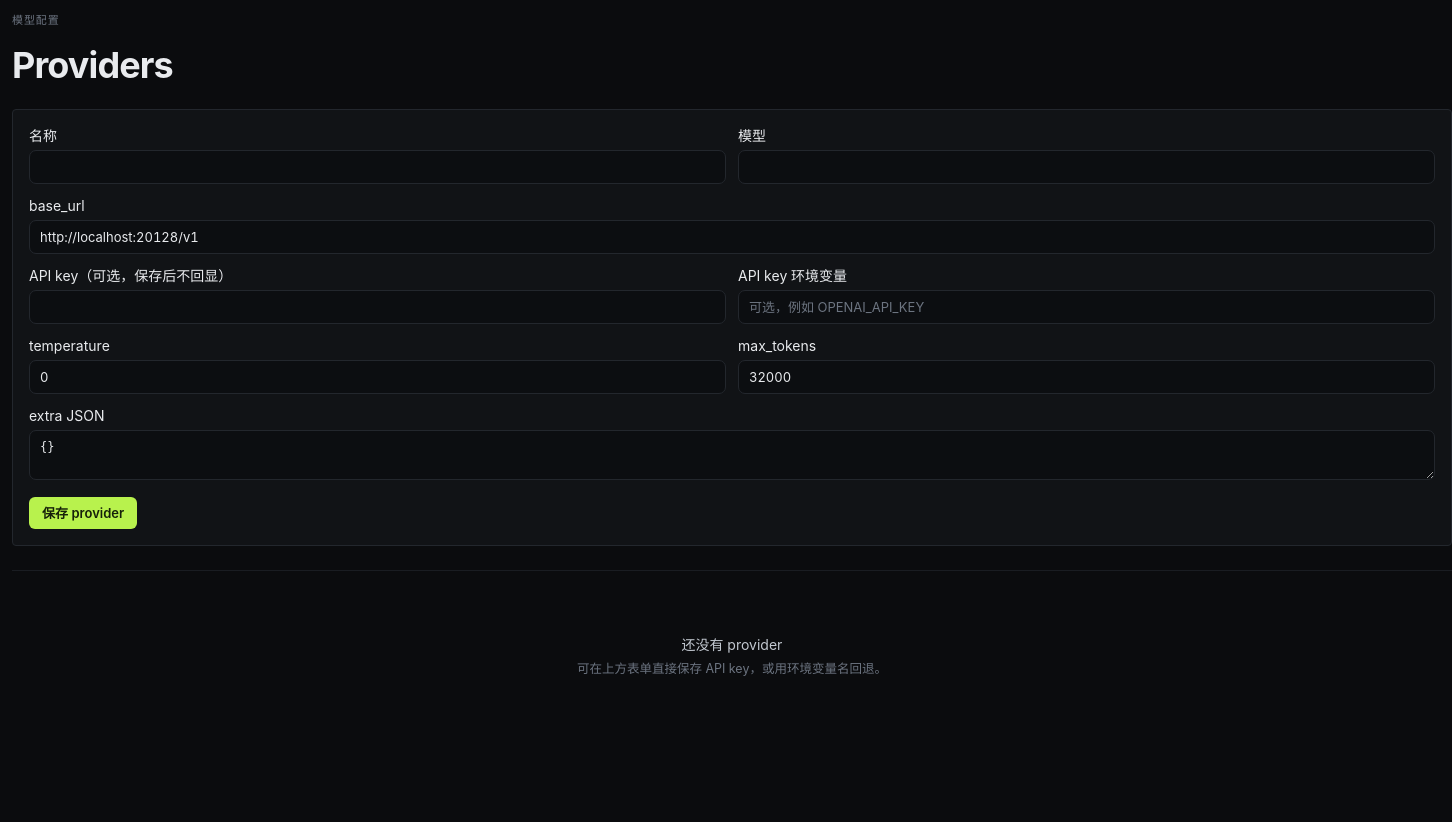
Test: ProvidersView field errors › 提交时全显所有字段错误并聚焦第一个错误字段
This screenshot has width=1452, height=822.
// jsdom 30 会在提交时执行 required 约束校验，先填名称/模型再触发提交。
Type "local" into the field labelled "名称" at (378, 167), box [29, 150, 726, 184]
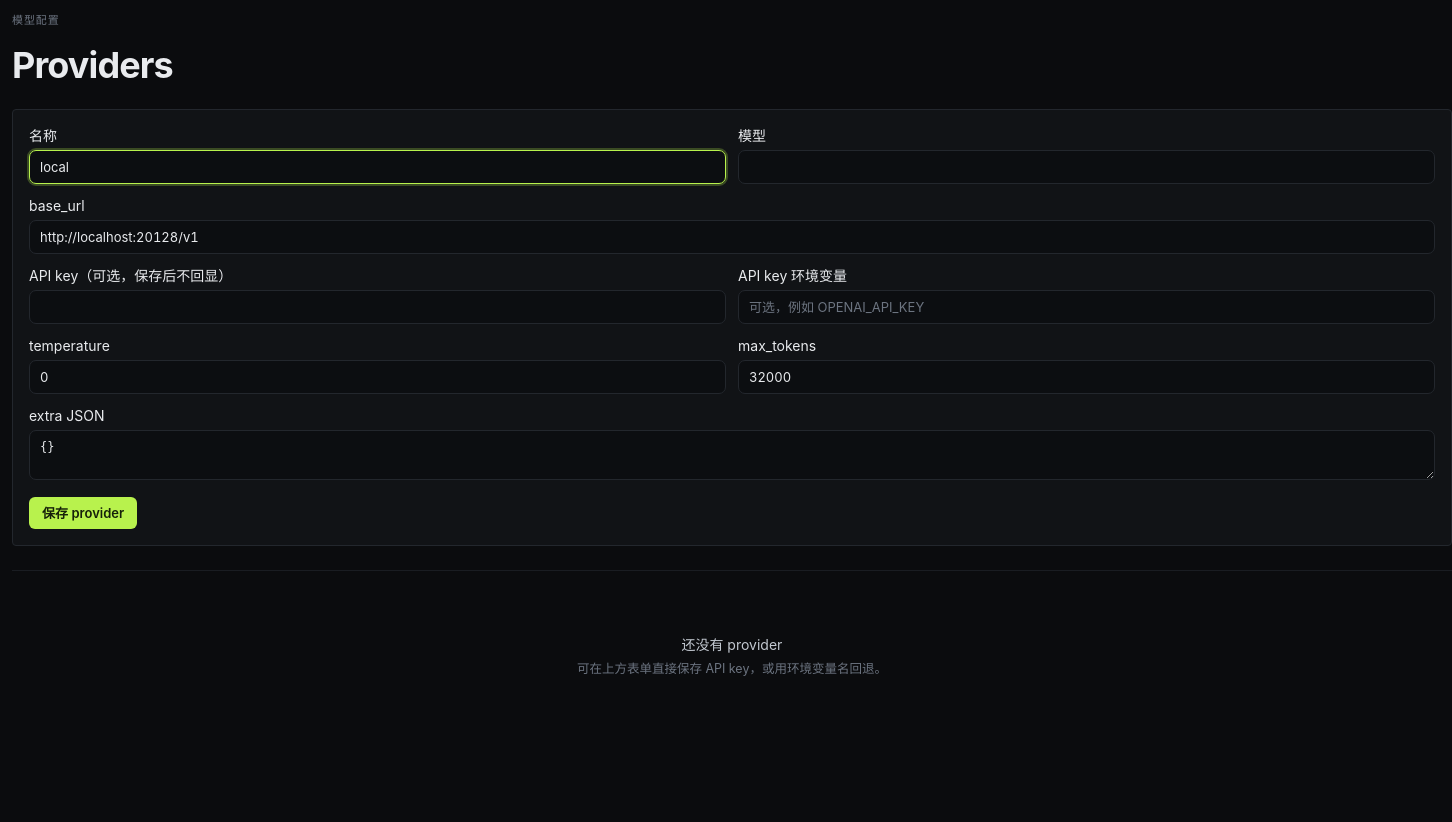
Type "m" into the field labelled "模型" at (1086, 167), box [738, 150, 1435, 184]
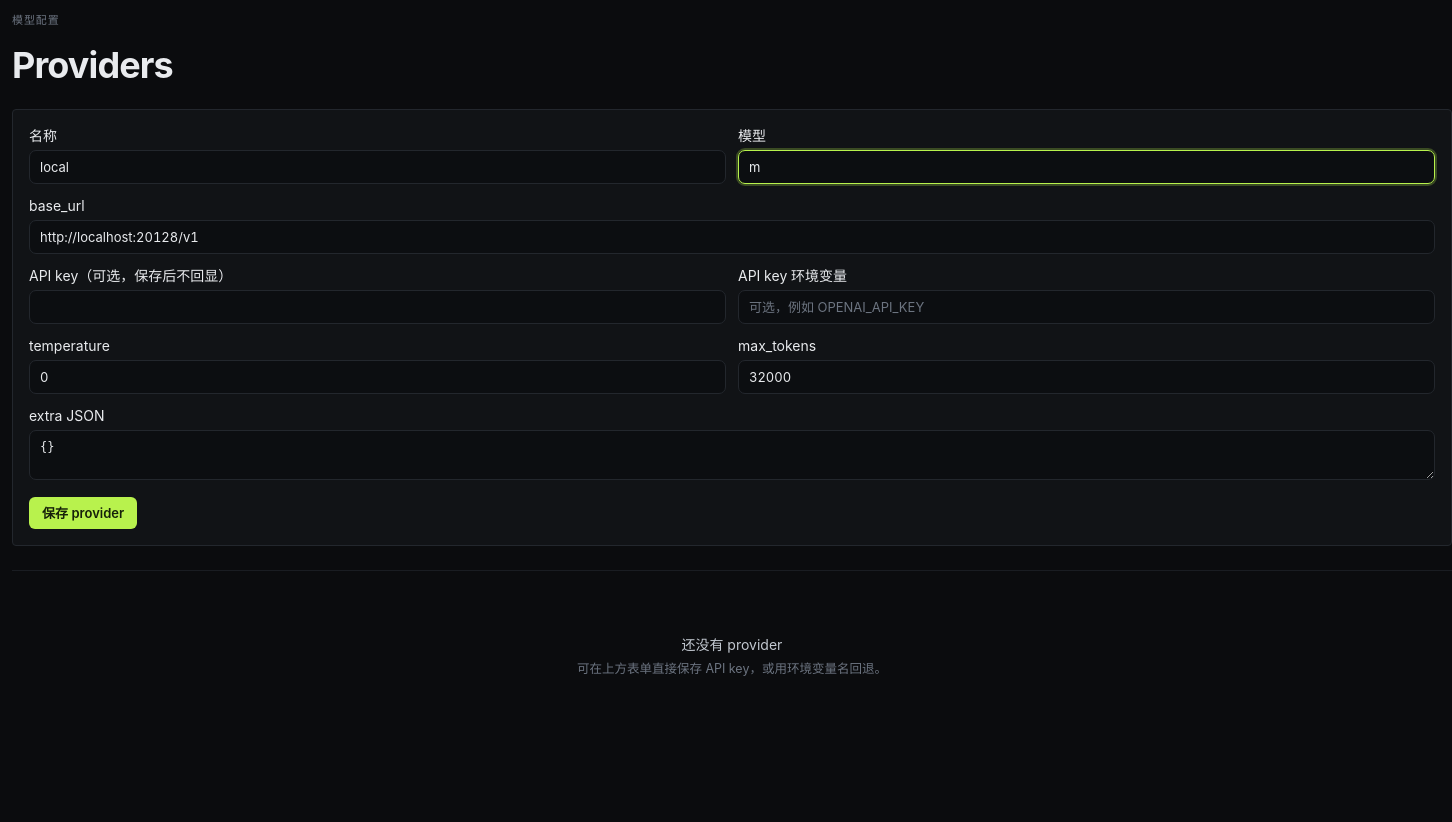
Clear the field labelled "base_url" at (732, 237), box [29, 220, 1435, 254]
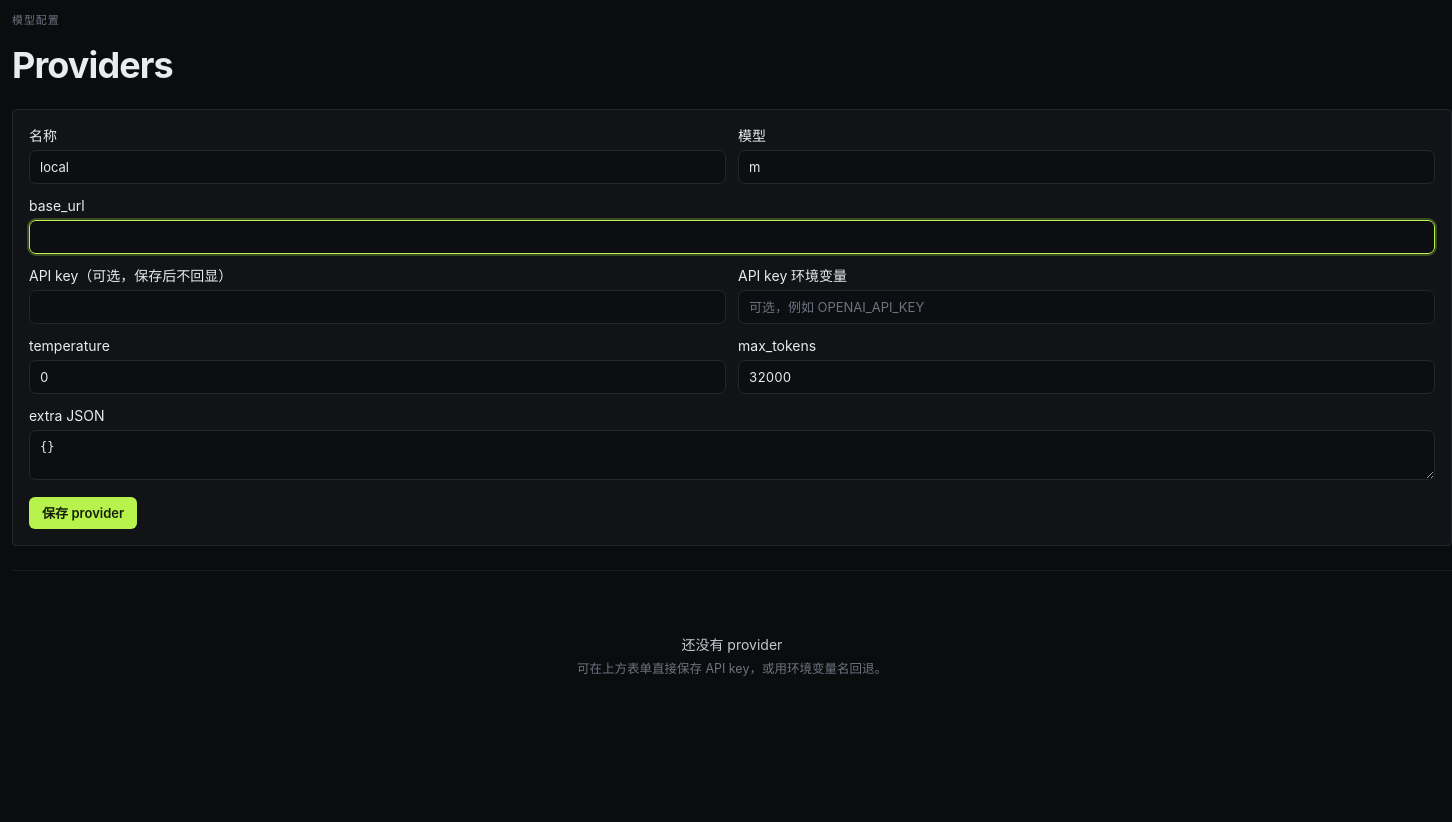
Clear the number field labelled "max_tokens" at (1086, 377), box [738, 360, 1435, 394]
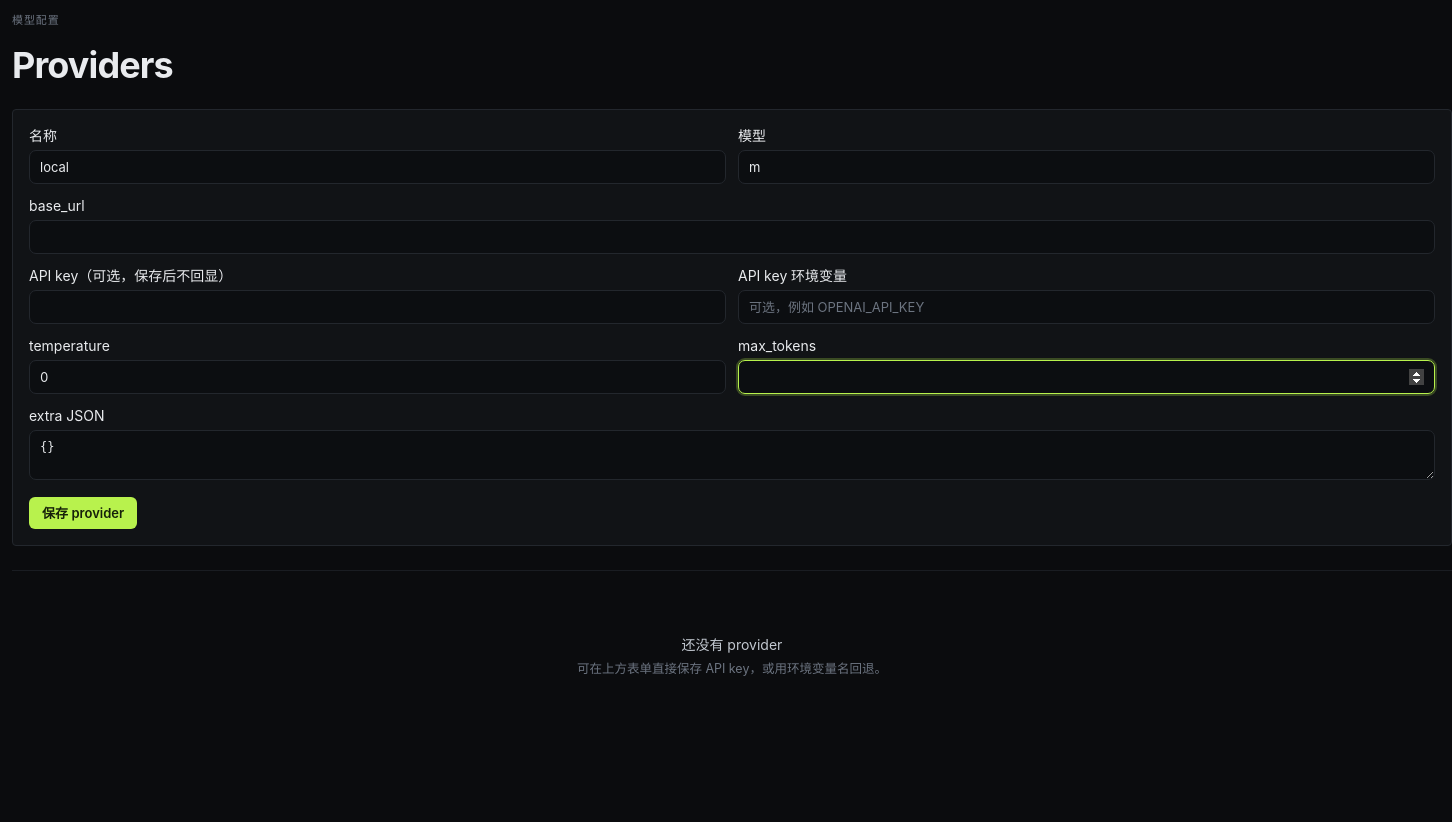
Click the button "保存 provider" at (83, 513), box [29, 497, 137, 529]
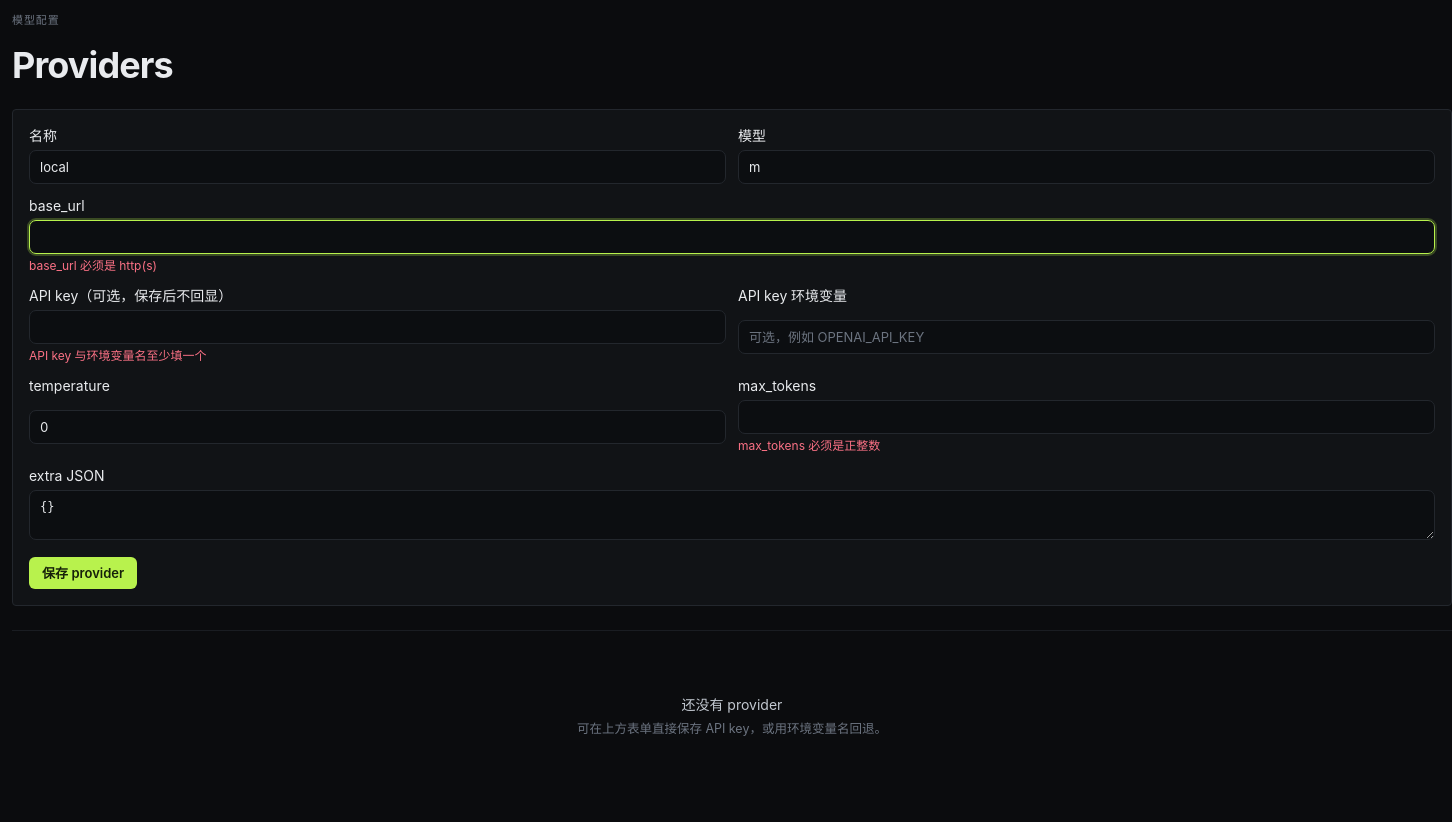
Check: the text "base_url 必须是 http(s)" is shown, box [29, 258, 157, 273]
Check: the text "max_tokens 必须是正整数" is shown, box [738, 438, 880, 453]
Check: the text "API key 与环境变量名至少填一个" is shown, box [29, 348, 206, 363]
